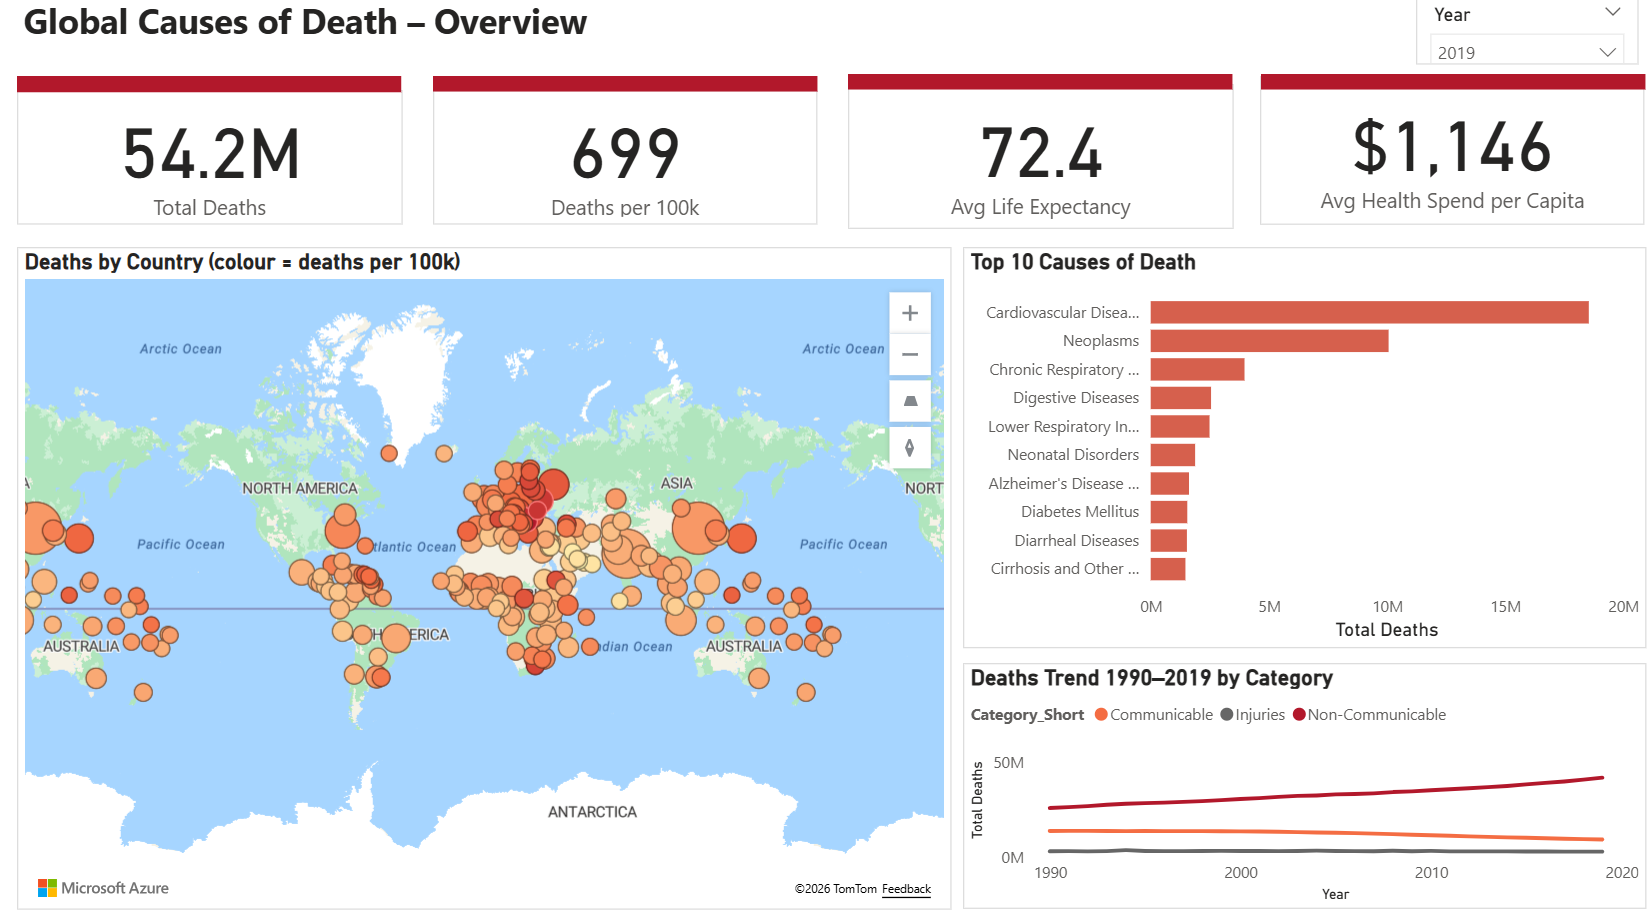

What the dashboard file says about the page in this screenshot:
{"tool":"powerbi","page":{"name":"Overview","canvas":[1280,720],"ordinal":0},"visuals":[{"type":"azureMap","title":"Deaths by Country (colour = deaths per 100k)","fields":{"Category":["Dim_Country.Country"],"Y":["Avg(Dim_Country.Latitude)"],"X":["Avg(Dim_Country.Longitude)"],"Size":["_Measures.Total Deaths"]},"box":[13.8,198.4,721.9,512.3],"z":0},{"type":"slicer","fields":{"Values":["Dim_Year.Year"]},"box":[1100.2,4.7,172,53.4],"z":1000},{"type":"card","fields":{"Values":["_Measures.Deaths per 100k"]},"box":[335.3,77.3,296.7,104.3],"z":2000},{"type":"card","fields":{"Values":["_Measures.Total Deaths"]},"box":[13.8,77.6,297.6,104.4],"z":3000},{"type":"card","fields":{"Values":["_Measures.Avg Life Expectancy"]},"box":[655.7,72.2,297.6,112.3],"z":4000},{"type":"card","fields":{"Values":["_Measures.Avg Health Spend per Capita"]},"box":[974.2,66.4,297.4,115.1],"z":5000},{"type":"clusteredBarChart","title":"Top 10 Causes of Death","fields":{"Category":["Dim_Cause.Cause"],"Y":["_Measures.Total Deaths"]},"box":[744.4,198.4,527.9,309.6],"z":6000},{"type":"lineChart","title":"Deaths Trend 1990–2019 by Category","fields":{"Category":["Dim_Year.Year"],"Y":["_Measures.Total Deaths"],"Series":["Dim_Cause.Category_Short"]},"box":[744.4,519.9,527.7,190],"z":7000},{"type":"textbox","box":[14.1,4.7,1074.3,53.4],"z":8000},{"type":"shape","box":[335.3,66.4,297.4,12.4],"z":9000},{"type":"shape","box":[974.9,64.9,297.4,12.4],"z":10000},{"type":"shape","box":[655.9,64.9,297.4,12.4],"z":11000},{"type":"shape","box":[14.1,66.7,296.8,12.6],"z":12000}]}

Visuals, with their boxes in screenshot pixels (x1, y1, x2, y2), scaled from the page's 1280x720 canvas onto the 1651x915 screenshot:
"Deaths by Country (colour = deaths per 100k)" azureMap: Rect(18, 252, 949, 903)
slicer - Dim_Year.Year: Rect(1419, 6, 1641, 74)
card - _Measures.Deaths per 100k: Rect(432, 98, 815, 231)
card - _Measures.Total Deaths: Rect(18, 99, 402, 231)
card - _Measures.Avg Life Expectancy: Rect(846, 92, 1230, 234)
card - _Measures.Avg Health Spend per Capita: Rect(1257, 84, 1640, 231)
"Top 10 Causes of Death" clusteredBarChart: Rect(960, 252, 1641, 646)
"Deaths Trend 1990–2019 by Category" lineChart: Rect(960, 661, 1641, 902)
textbox: Rect(18, 6, 1404, 74)
shape: Rect(432, 84, 816, 100)
shape: Rect(1257, 82, 1641, 98)
shape: Rect(846, 82, 1230, 98)
shape: Rect(18, 85, 401, 101)
